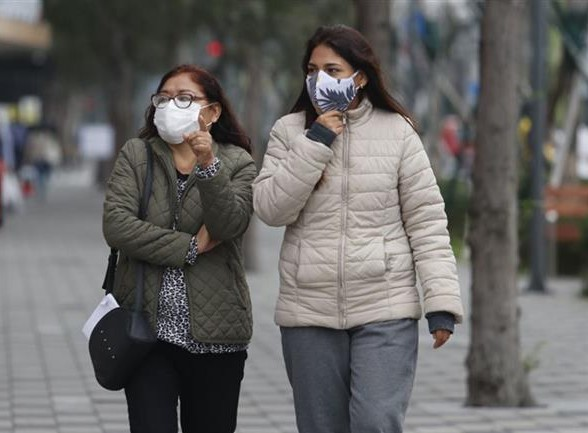with_mask: (144, 64, 228, 150), (302, 34, 379, 118)
